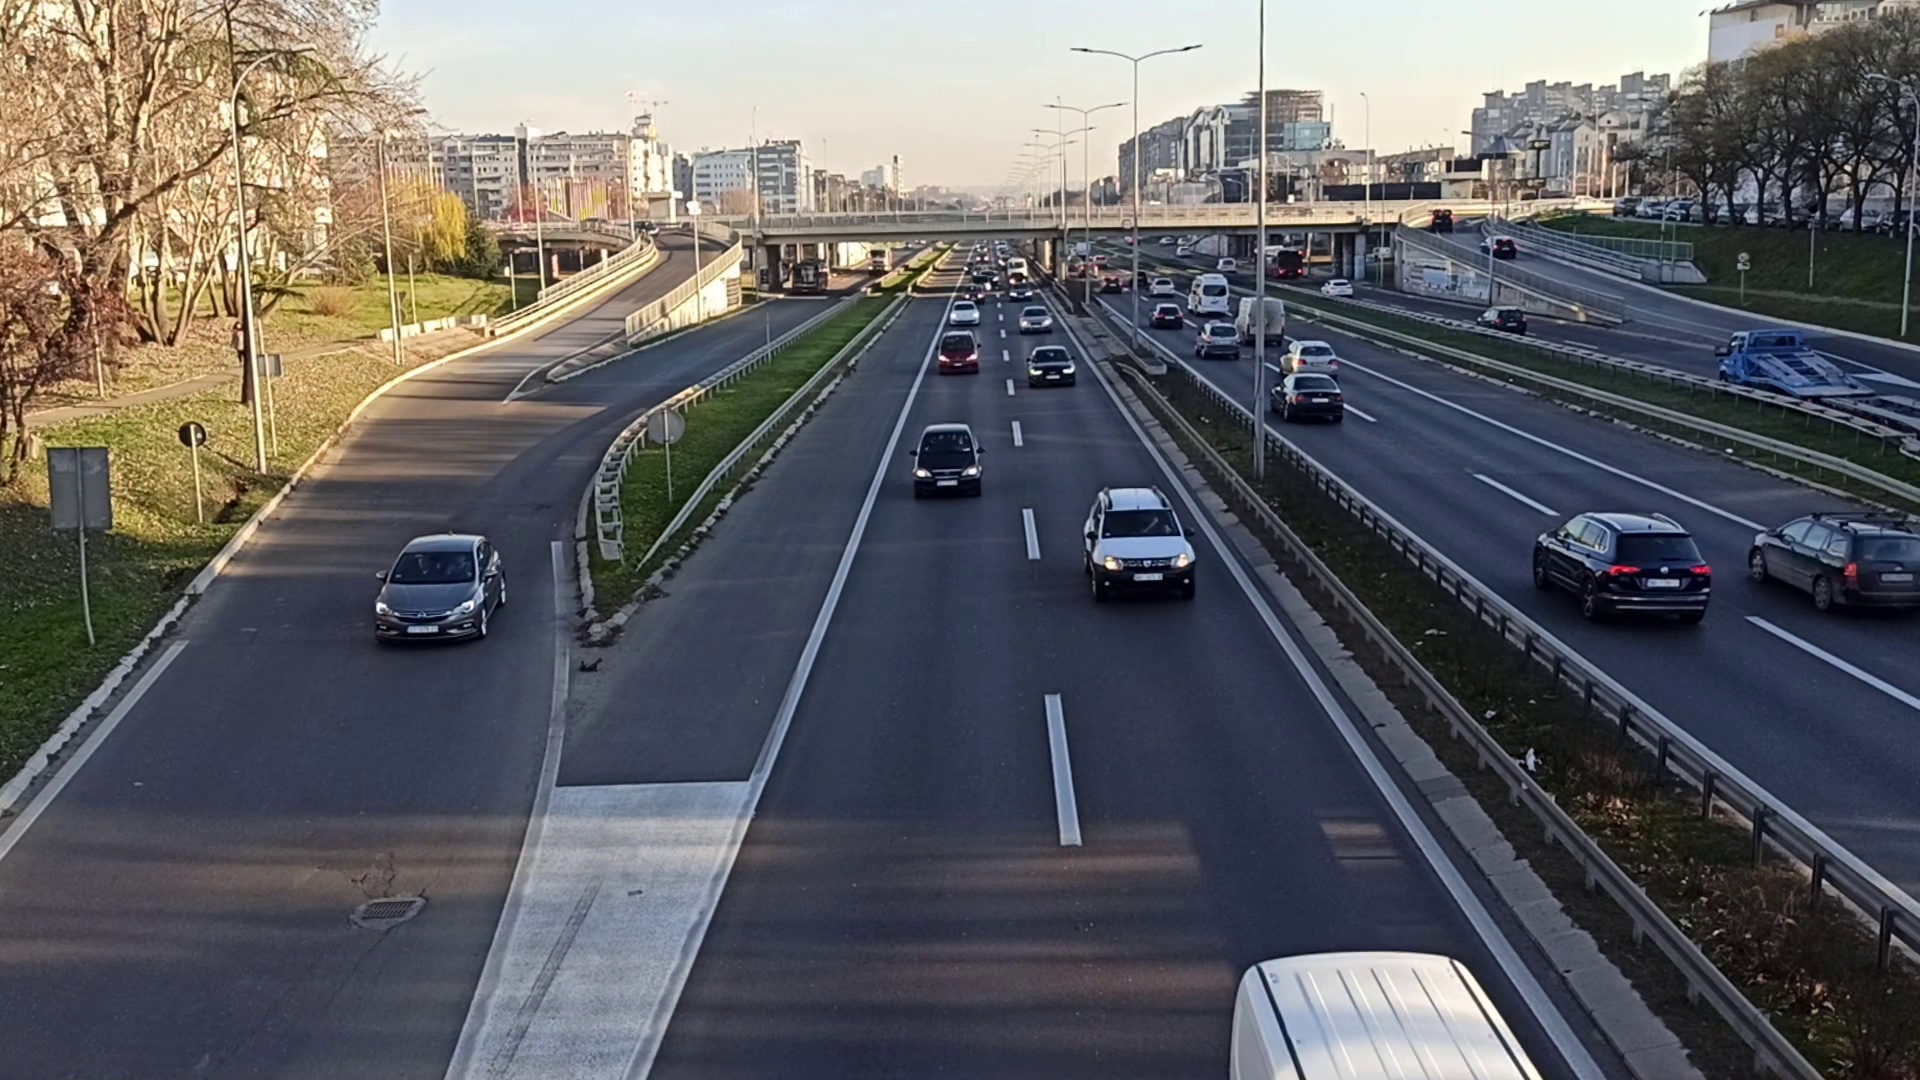car: (1516, 496, 1714, 640), (361, 520, 516, 649), (1750, 497, 1917, 615), (1073, 485, 1207, 604), (905, 419, 985, 498), (1270, 375, 1344, 419), (1018, 348, 1075, 386), (1280, 340, 1338, 376), (935, 334, 981, 373), (1193, 323, 1240, 357), (1017, 307, 1052, 332), (1150, 302, 1180, 327), (949, 301, 978, 322)
